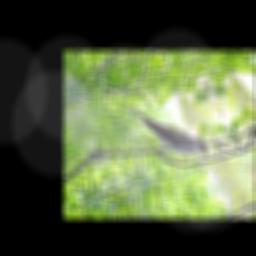Cuckoo: (118, 82, 213, 175)
